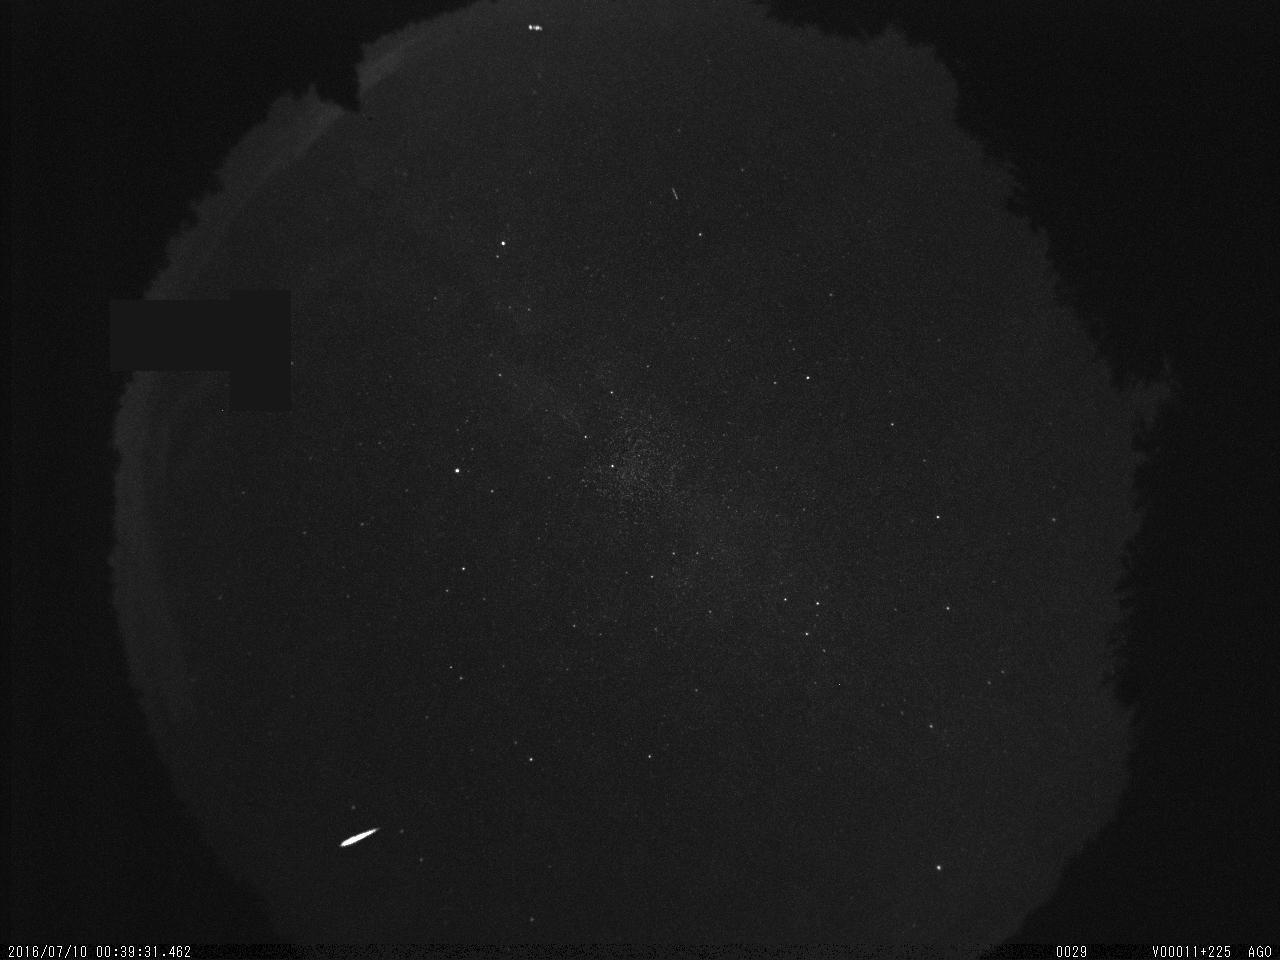meteor: (322, 819, 385, 855)
